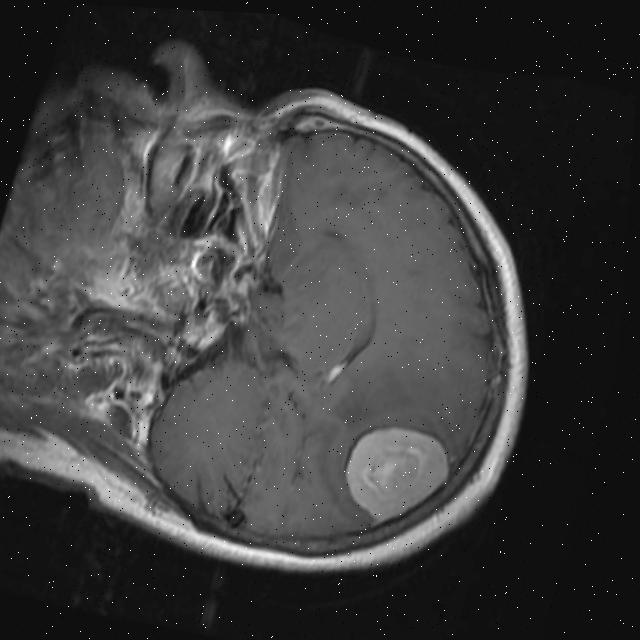Meningioma: (327, 411, 460, 538)
